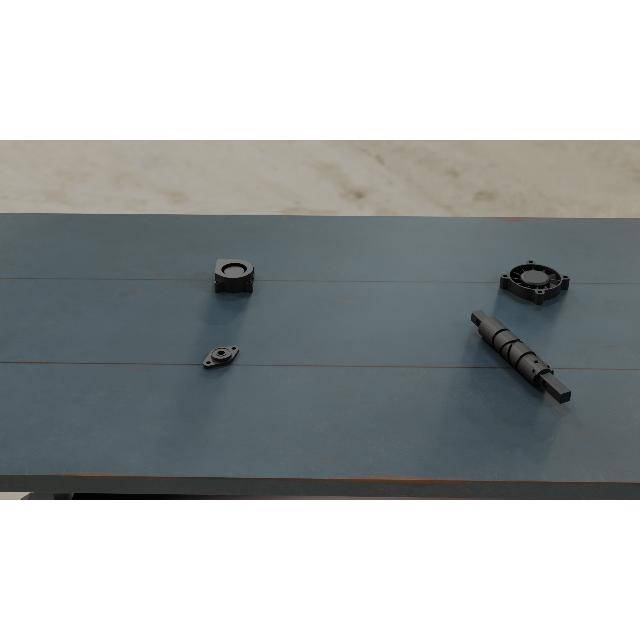Pieza1: (466, 304, 578, 411)
Pieza2: (196, 340, 246, 372)
Pieza3: (214, 258, 256, 294)
Pieza4: (497, 258, 573, 308)
